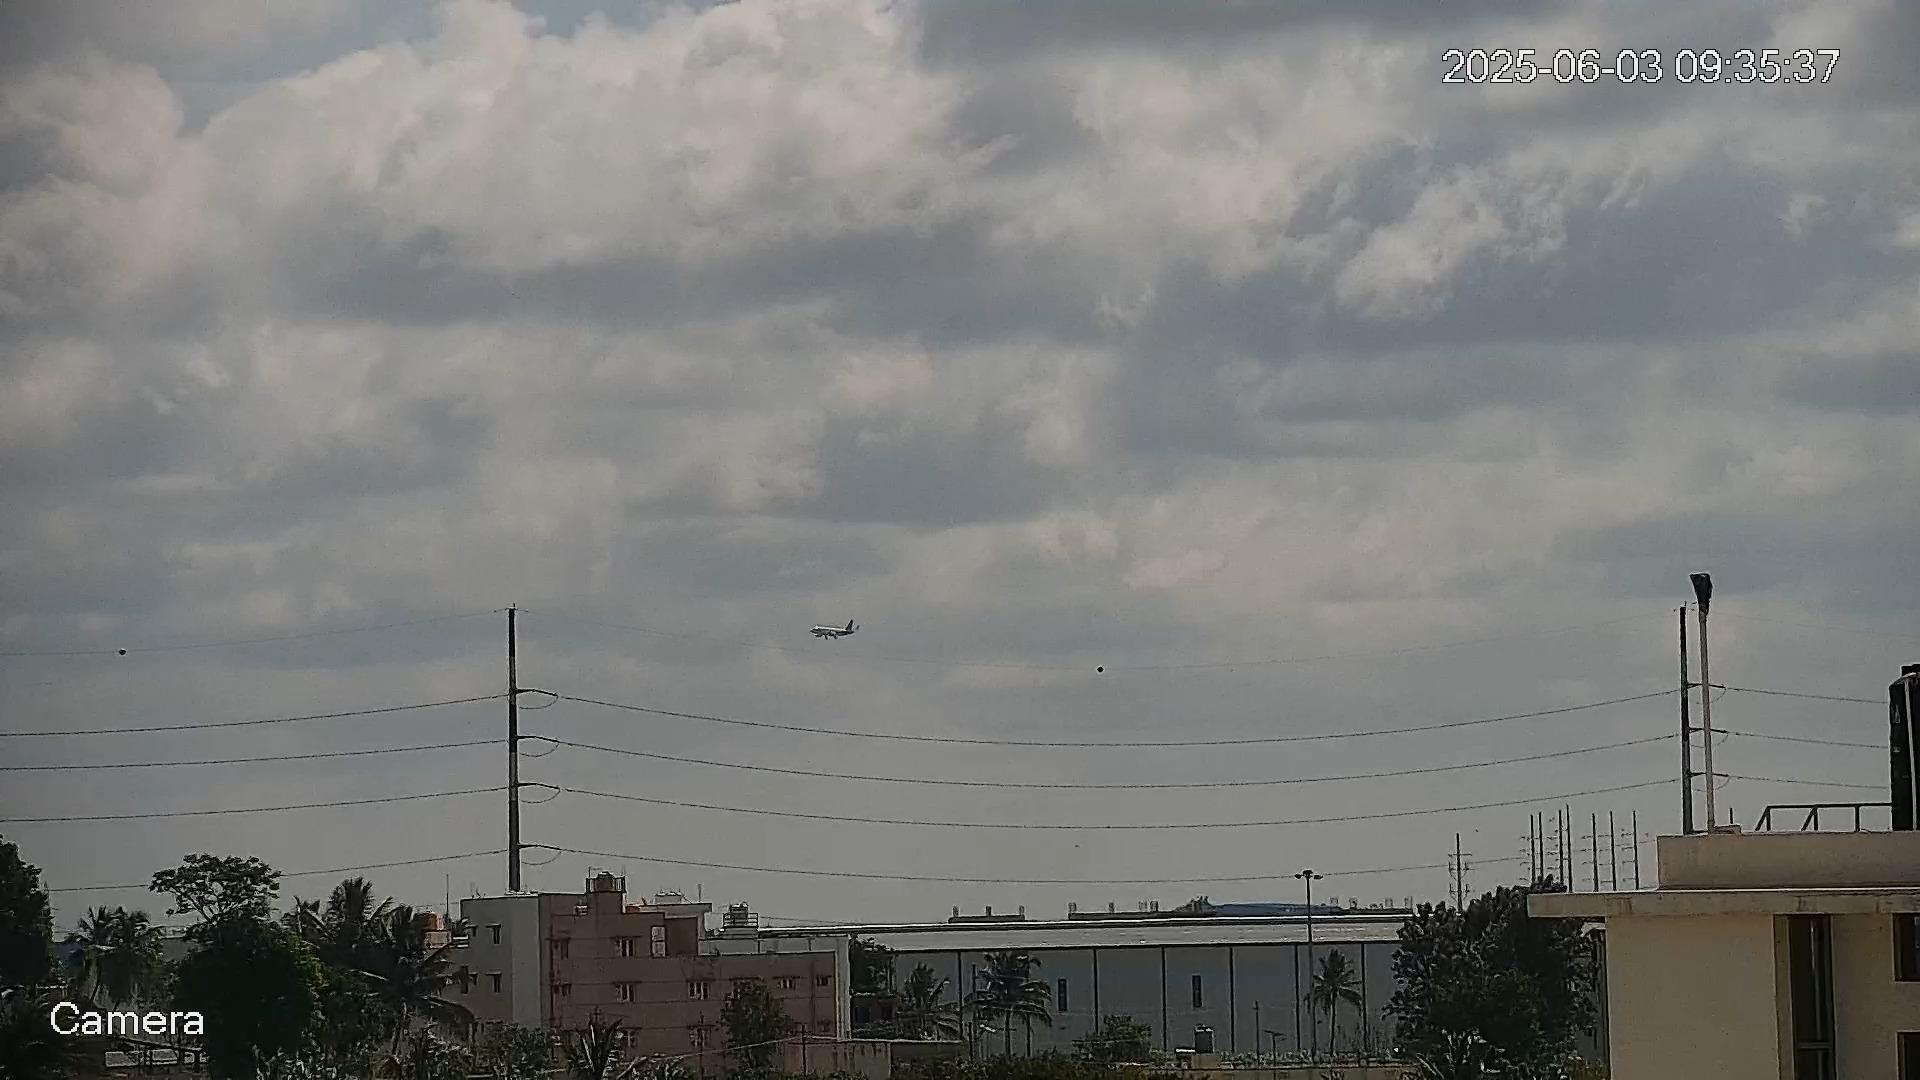Aircraft: (808, 616, 862, 642)
